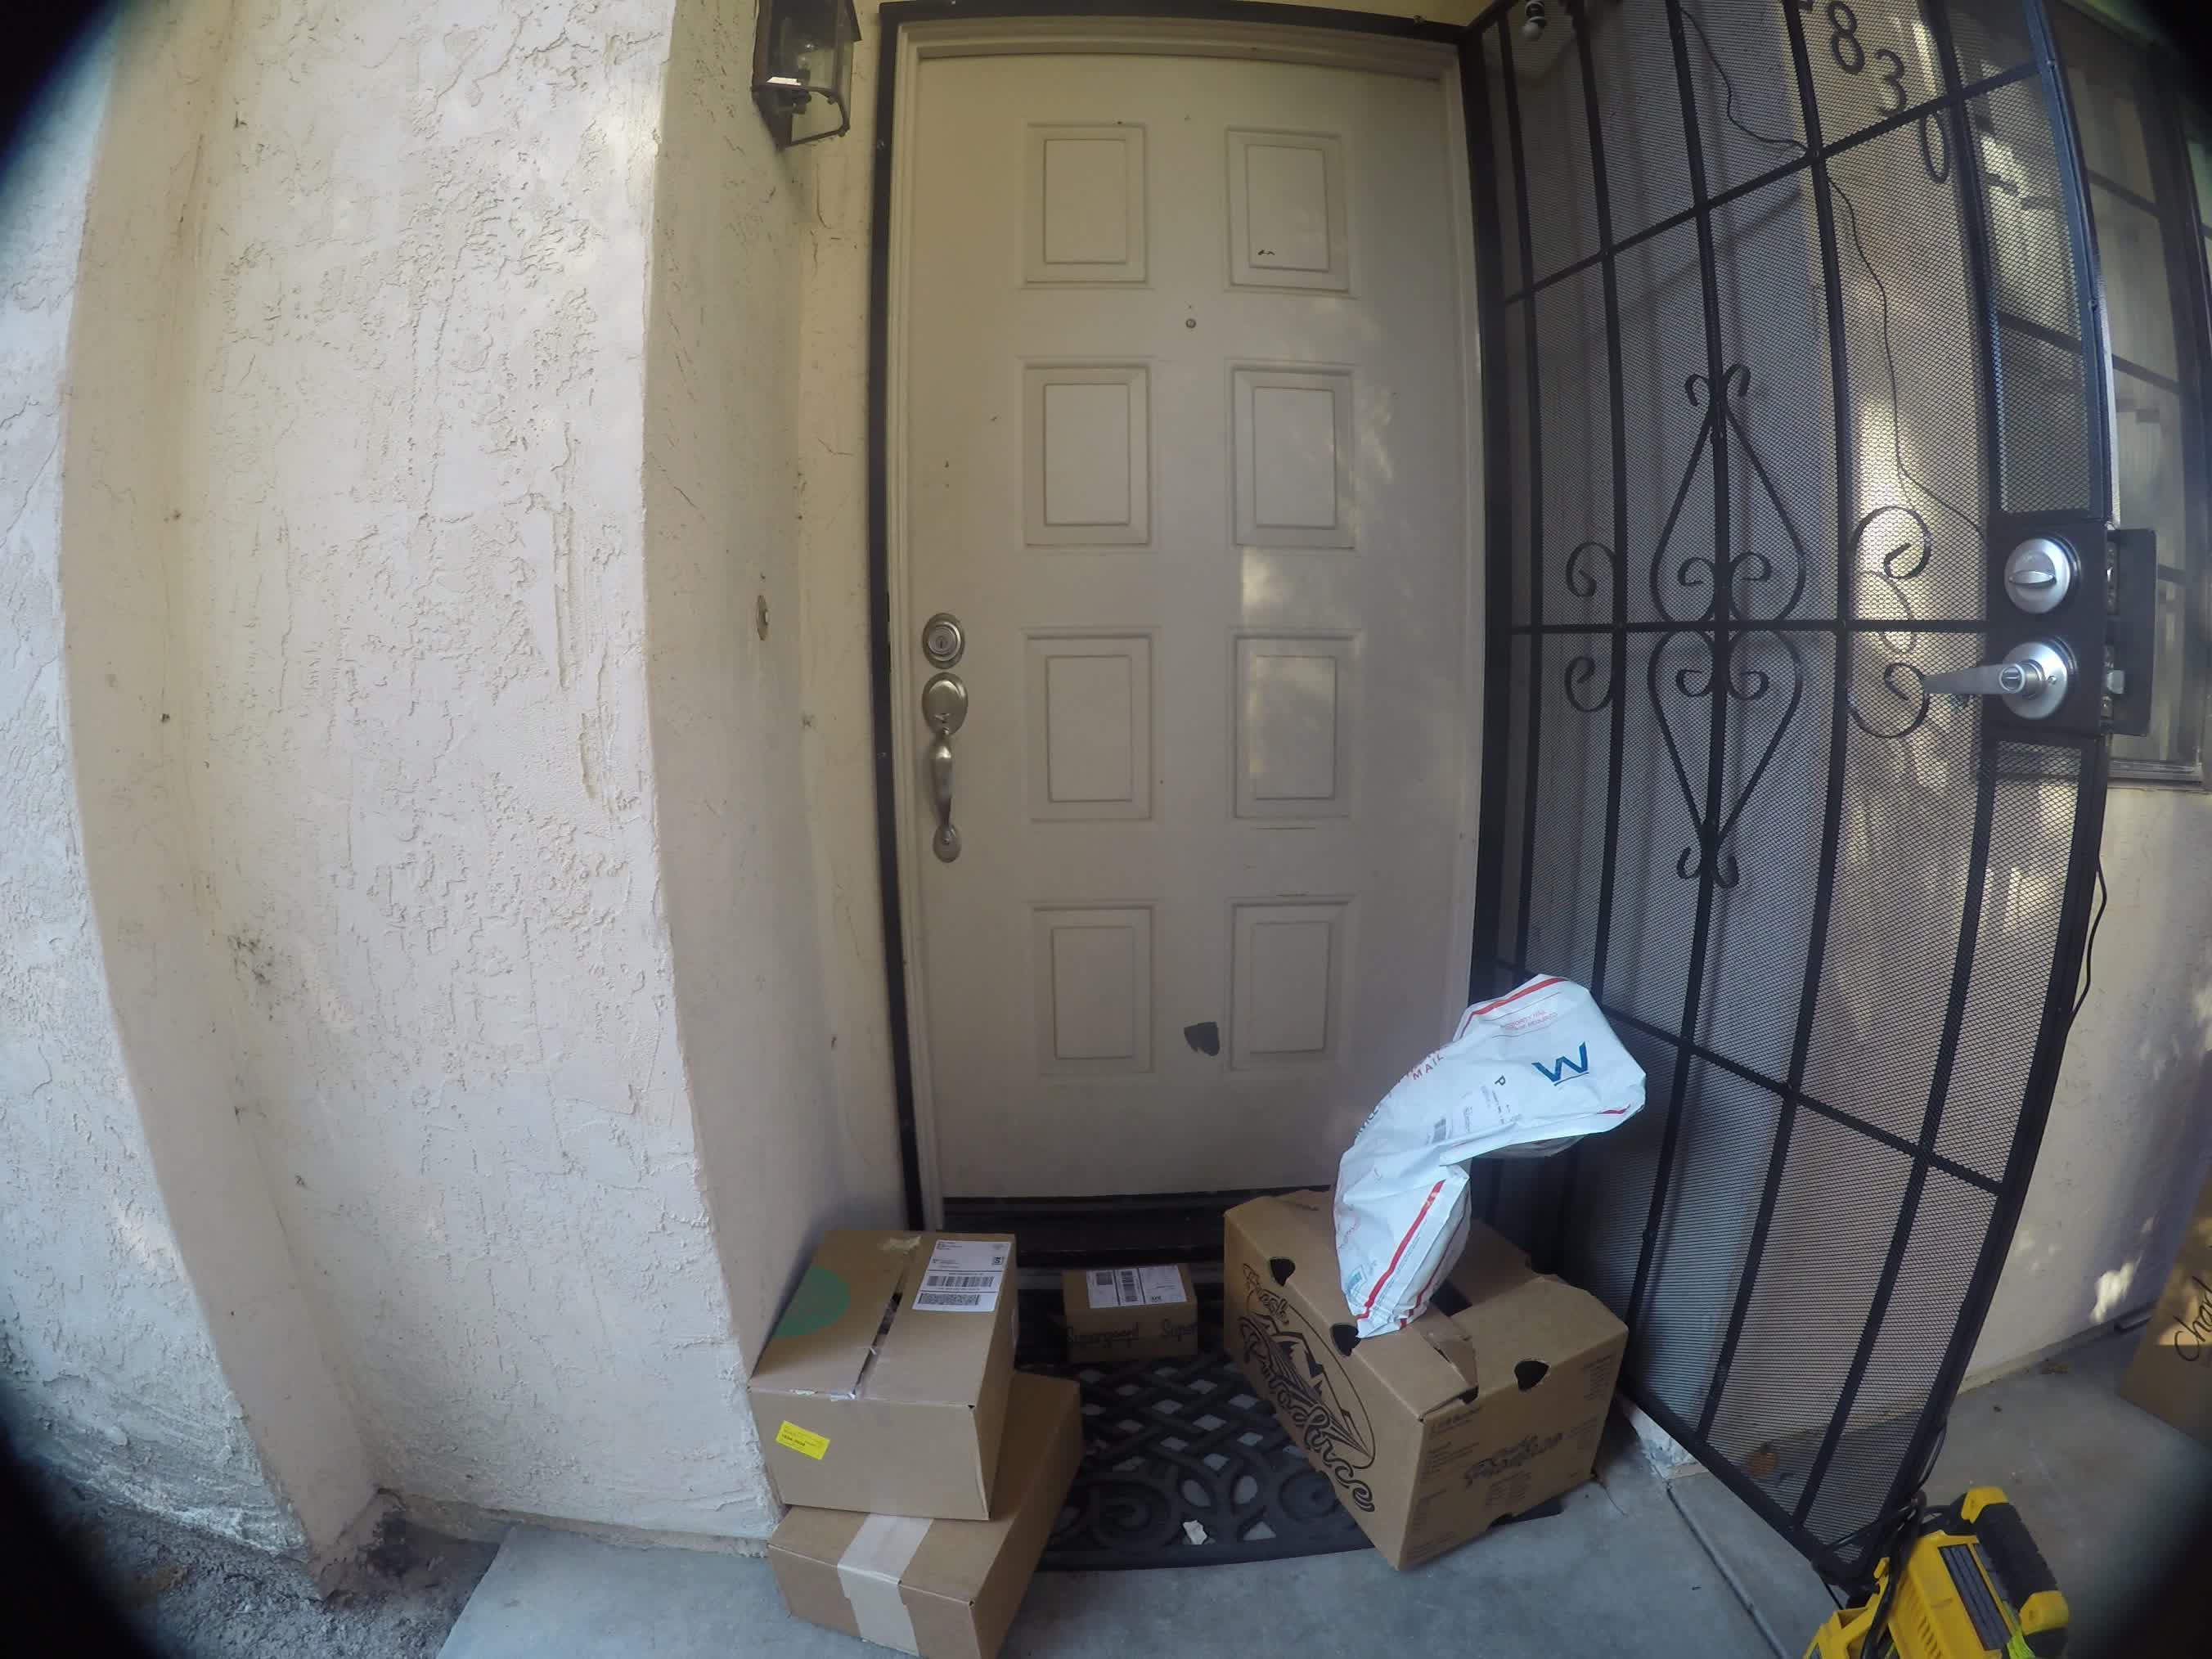box: (1261, 1321, 1648, 1565), (749, 1197, 1026, 1504), (761, 1500, 1076, 1640), (1054, 1241, 1216, 1364)
plastic_bag: (1313, 971, 1642, 1314)
